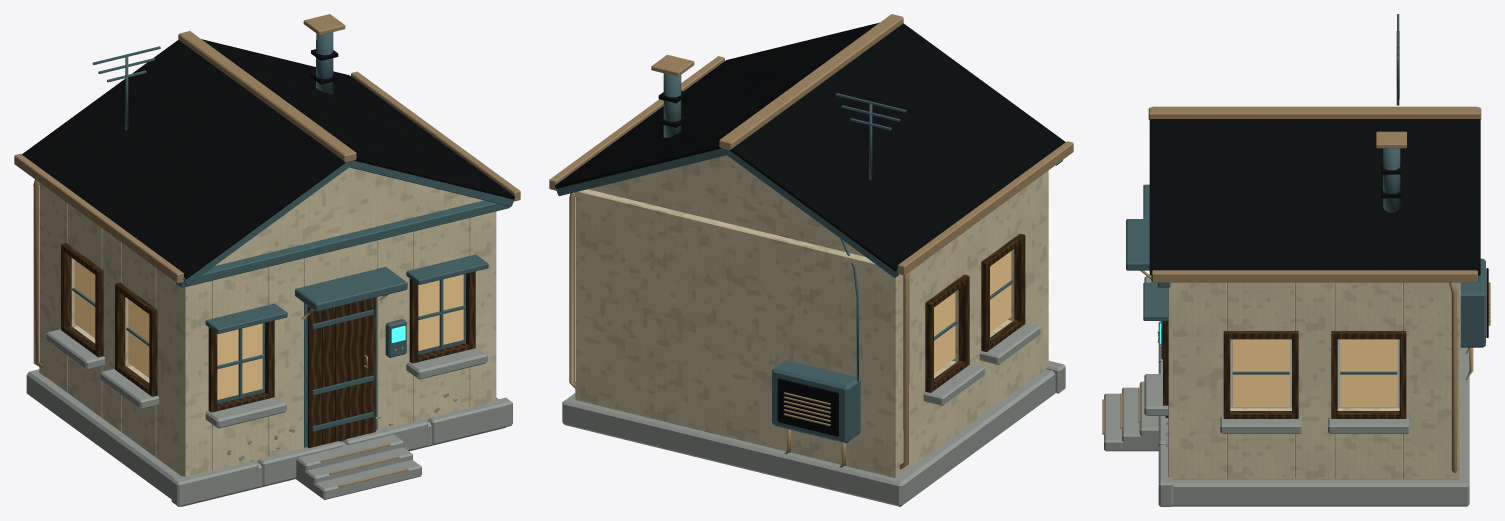
File: house.glb
The picture shows the model from 3 angles, left to right: view 1: azimuth 30°, elevation 25°; view 2: azimuth 150°, elevation 25°; view 3: azimuth 270°, elevation 25°; orthographic projection. The views are drawn at different scales.
Visible parts, largest first — view 1: house; view 2: house; view 3: house.
Boxes of the visible parts, box(x1,y1,x2,y2) form: house: box(14, 14, 520, 506); house: box(549, 14, 1073, 506); house: box(1102, 14, 1490, 506).
Size of the model in its own units: 4.93 by 4.73 by 4.76.
Materials: 8 (3 with a texture image).
